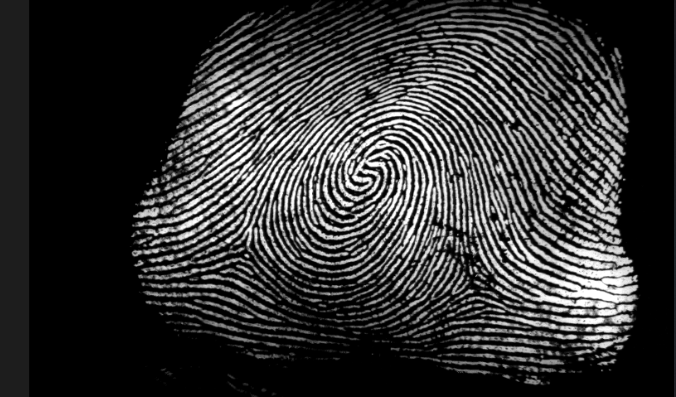nucelo: (350, 145, 388, 195)
verticilo: (222, 224, 268, 256), (454, 264, 490, 296)
